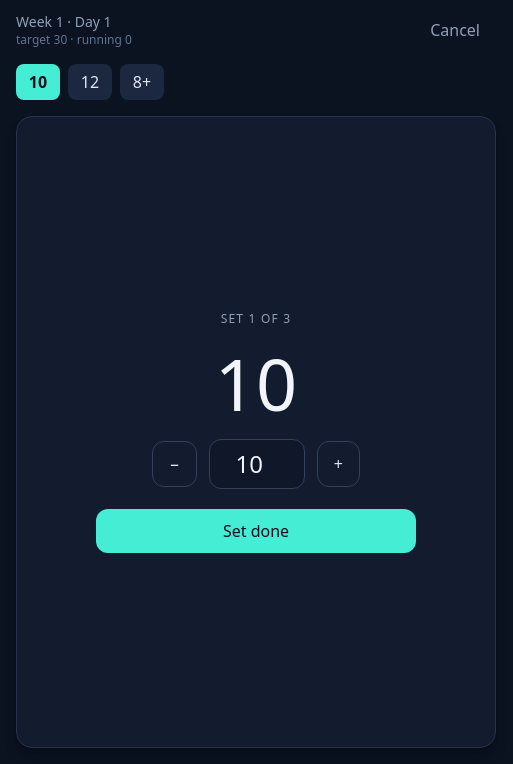
the tab dies mid-workout › comes back on the set it was on, with the reps already done
Click the button "+" at (338, 464), box [317, 441, 360, 487]
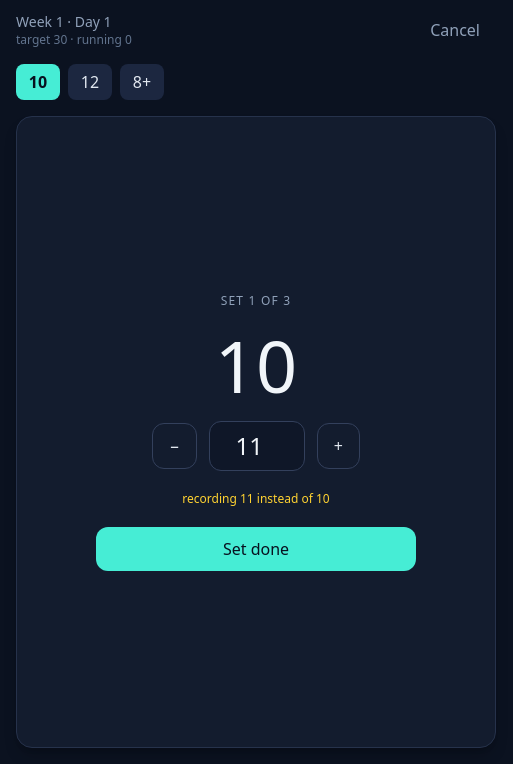
Click the button "Set done" at (256, 549), box [96, 527, 416, 571]
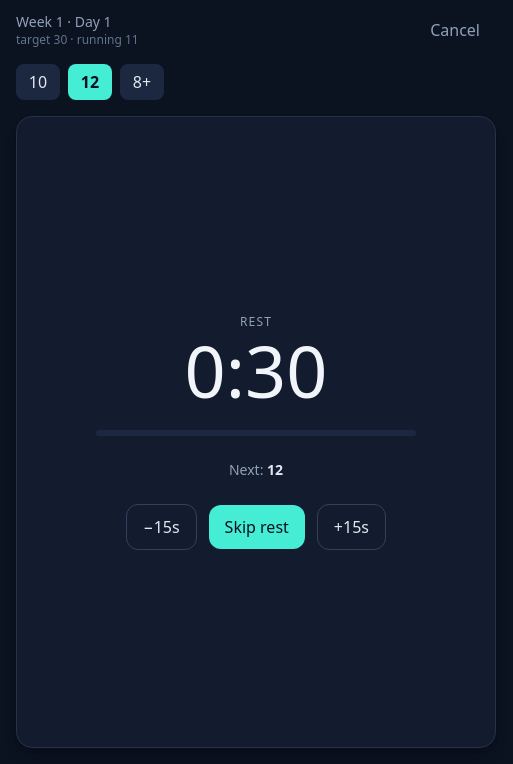
Click the button "Skip rest" at (257, 527), box [209, 505, 305, 549]
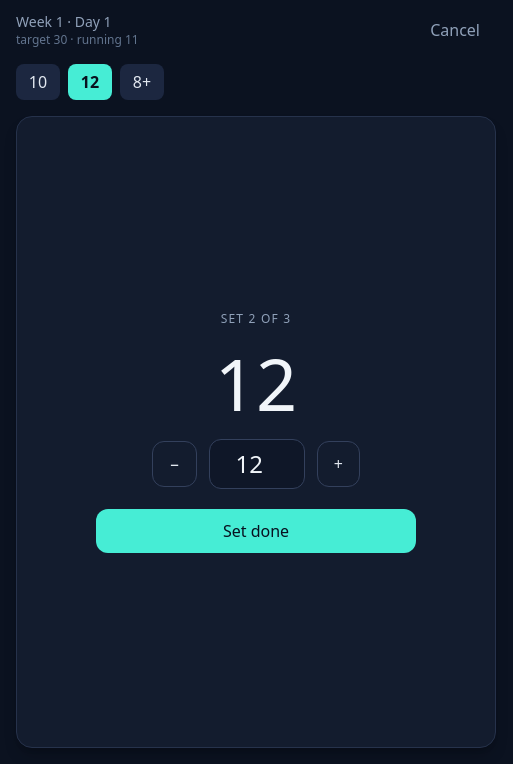
Click the button "−" at (174, 464), box [152, 441, 197, 487]
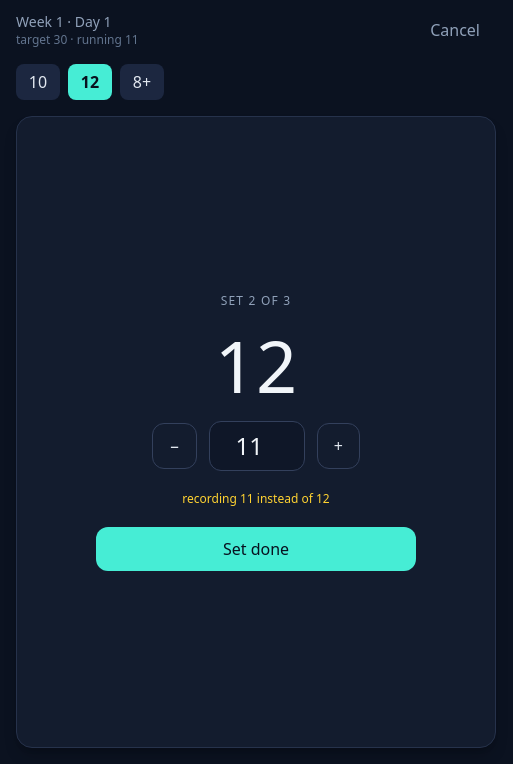
Click the button "Set done" at (256, 549), box [96, 527, 416, 571]
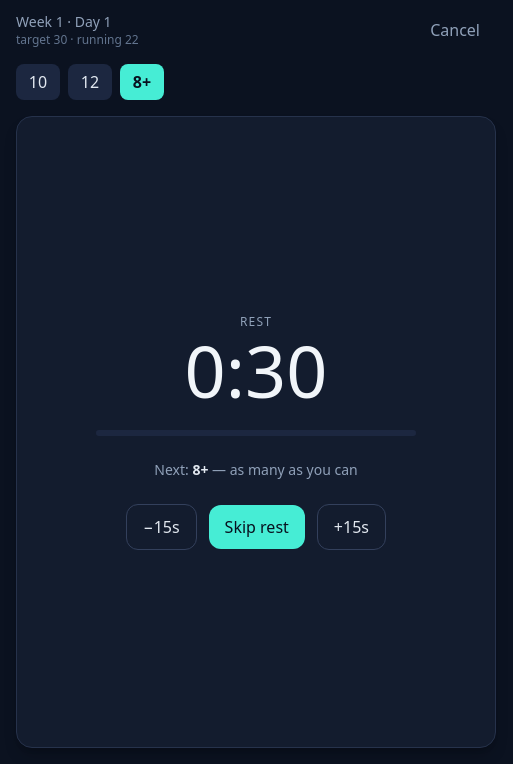
Now the text "running 22" is shown, box [16, 32, 139, 48]
Now the text "Next: 8+" is shown, box [154, 460, 358, 480]
Click the button "Skip rest" at (257, 527), box [209, 505, 305, 549]
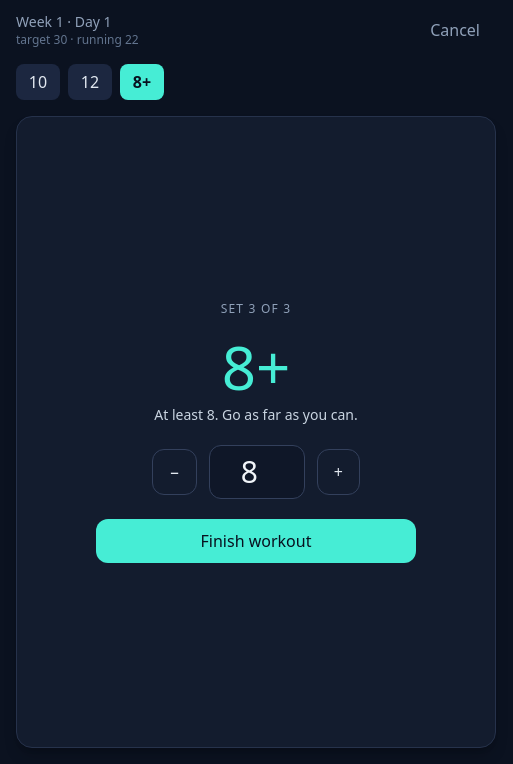
Now the text "Set 3 of 3" is shown, box [221, 301, 291, 317]
